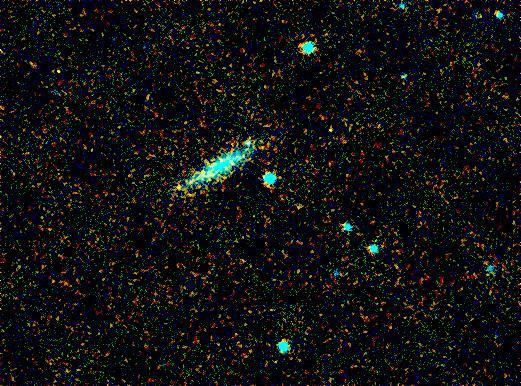star: (314, 112, 344, 142)
